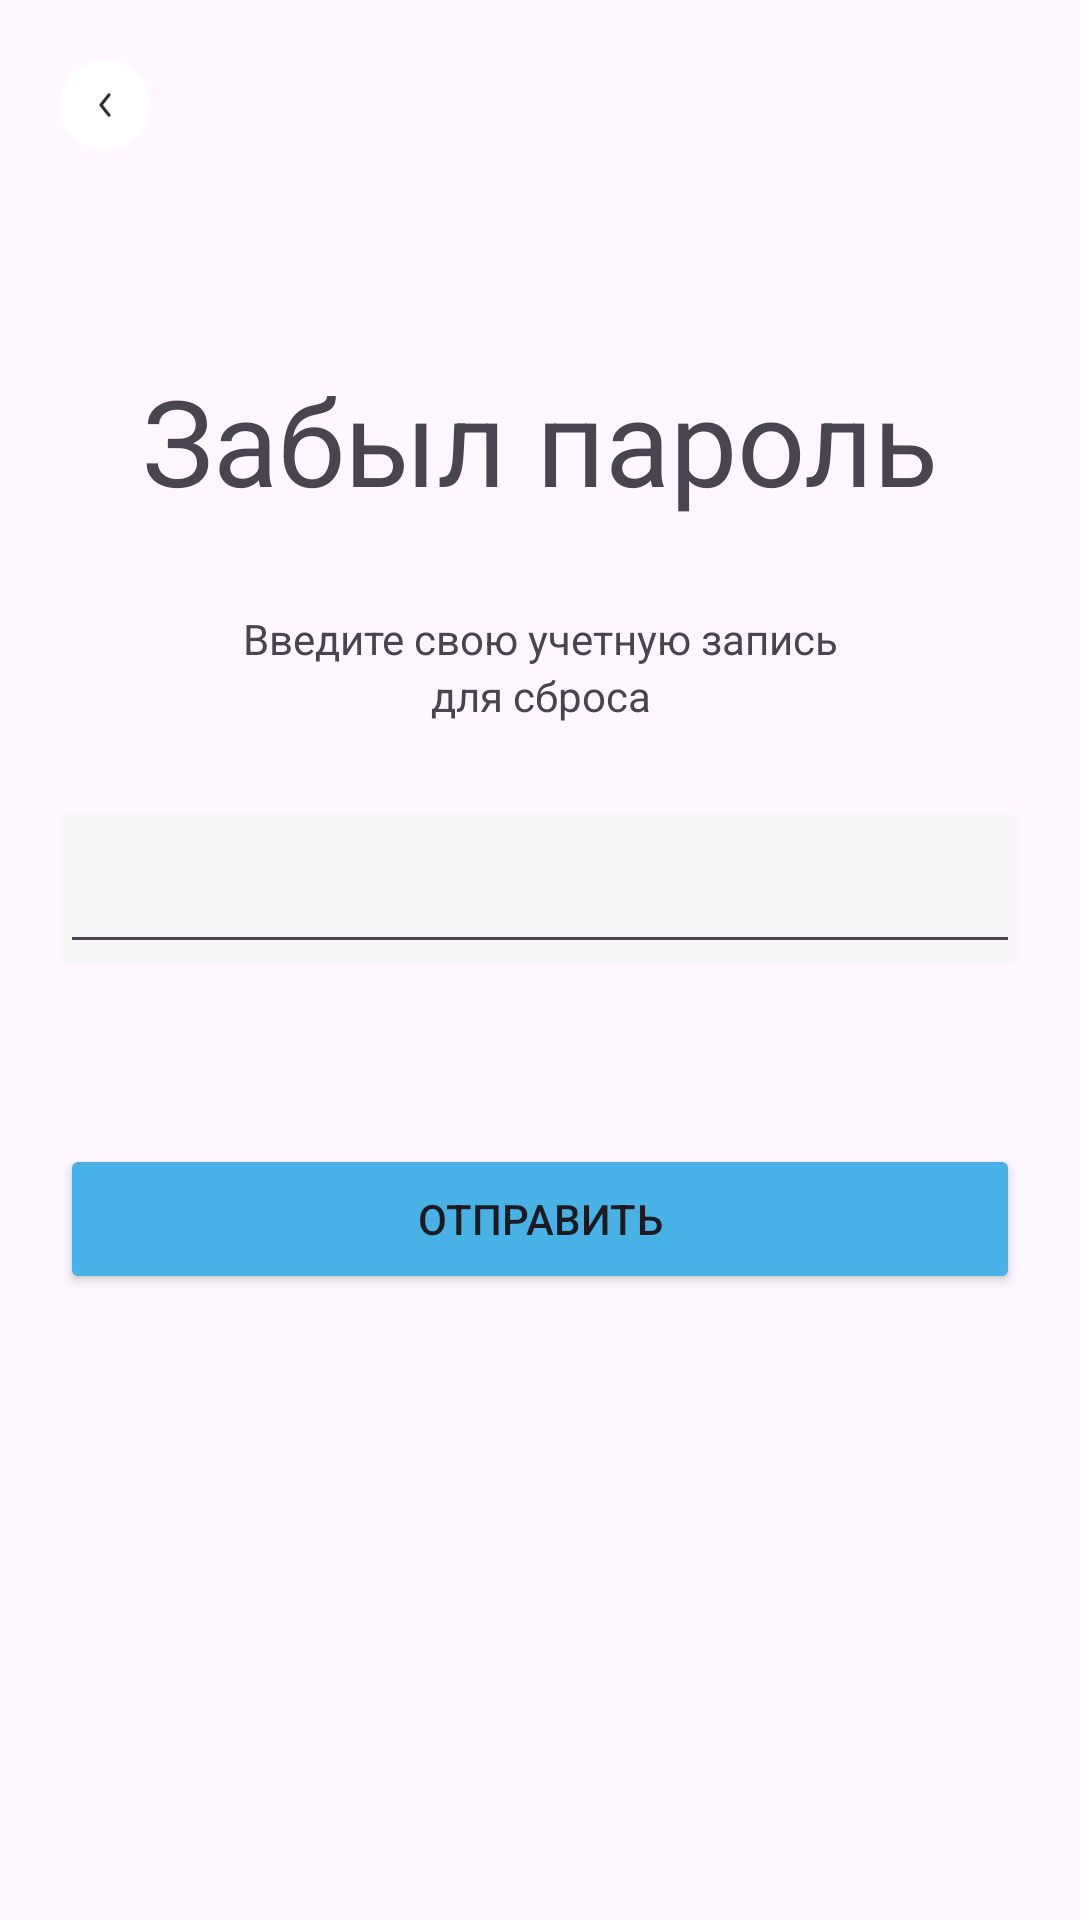

Locate icon controls on the screen. Image size 1080w x 1920h, boxes as (x1, y1, x2, y2).
backbtnicon: (99, 93, 111, 117)
